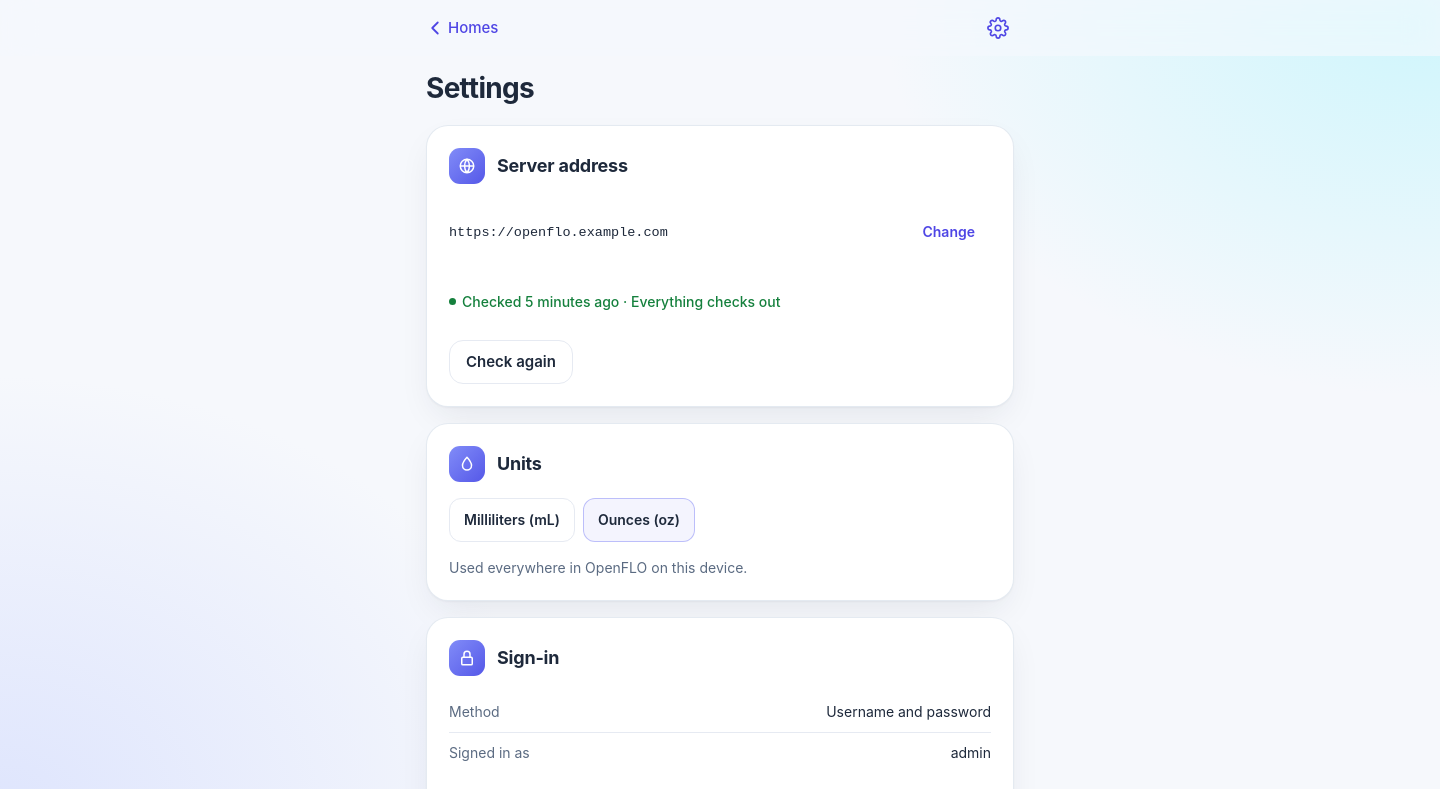
Settings → Server address › folds a passing check behind its summary line
Expected: the text "https://openflo.example.com" is shown, [449,225,668,240]
Click the button "Checked 5 minutes ago · Everything checks out". click: (720, 302)
box: [449,280,991,324]
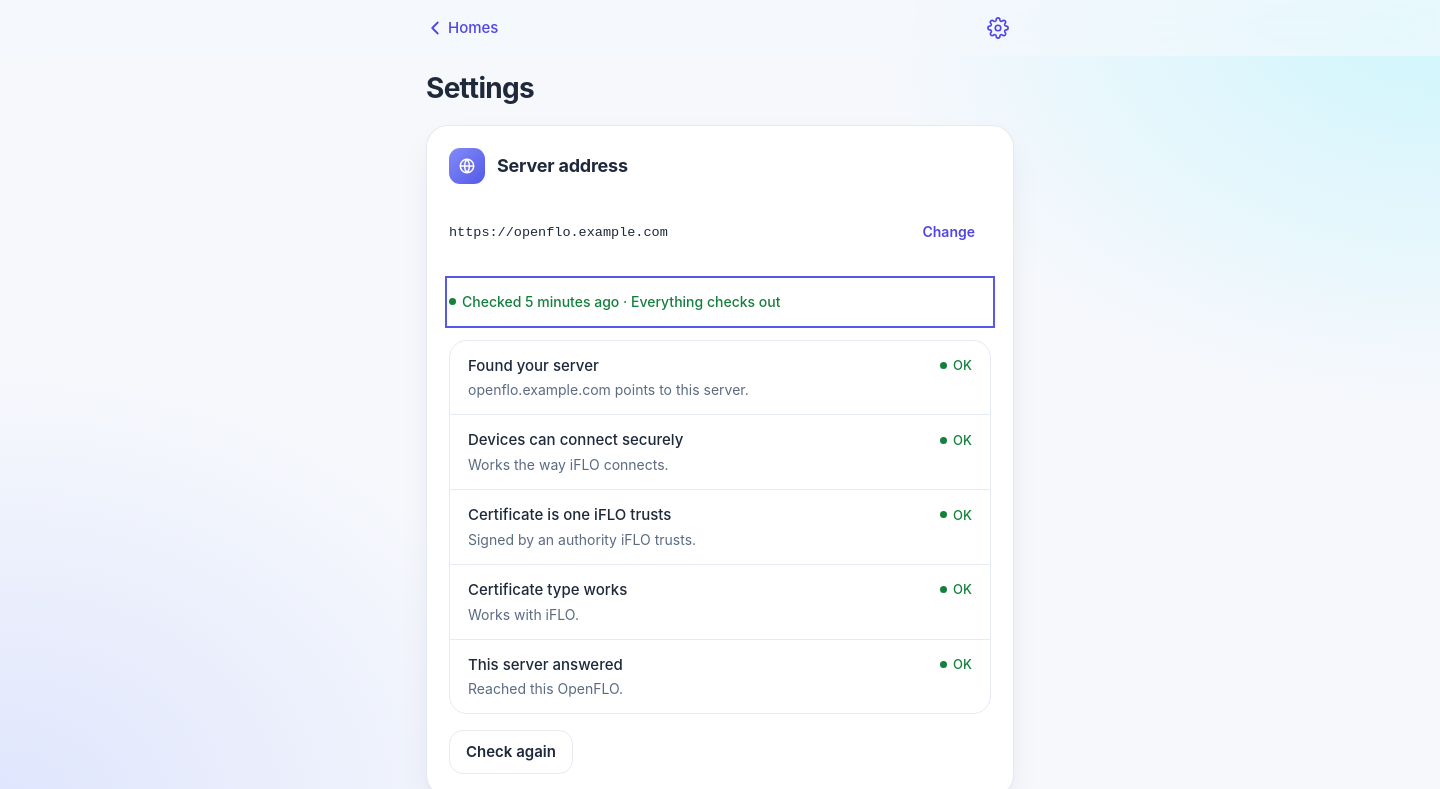
Expected: the list named "Address check" is shown, [449,340,991,714]
Expected: the text "OK" is shown, [940,356,972,375]
